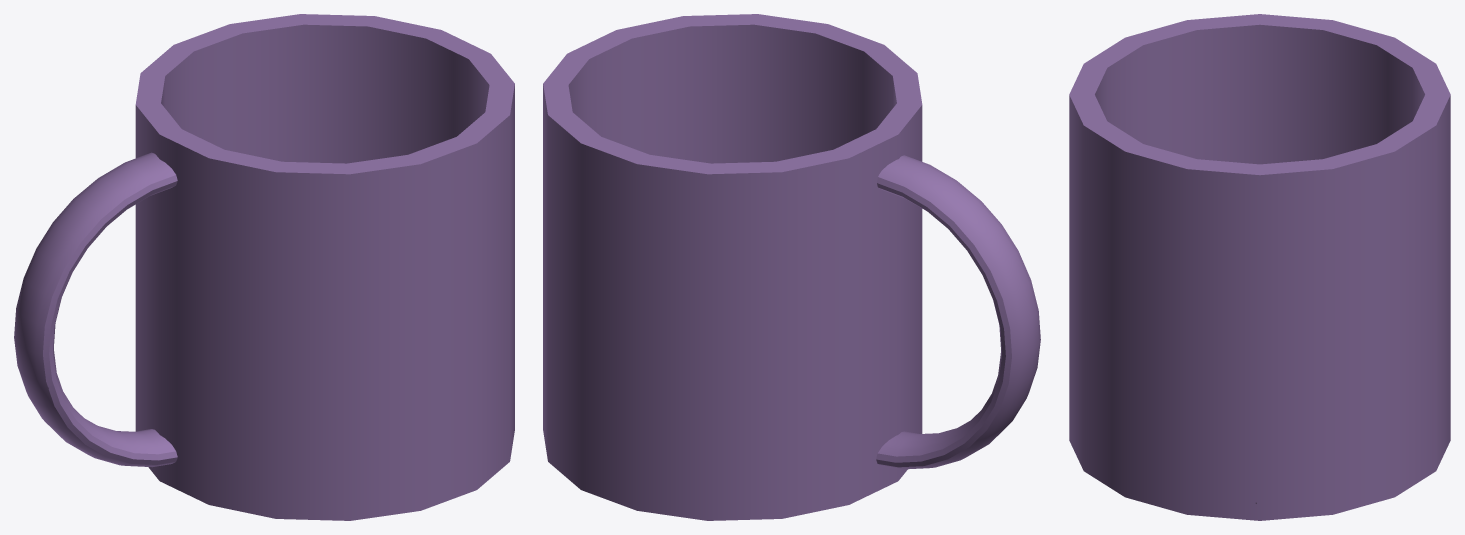
File: TazaMorada.fbx
The picture shows the model from 3 angles, left to right: view 1: azimuth 30°, elevation 25°; view 2: azimuth 150°, elevation 25°; view 3: azimuth 270°, elevation 25°; orthographic projection.
Visible parts, largest first — view 1: taza; view 2: taza; view 3: taza.
Boxes of the visible parts, left/top/right/bottom form: taza: left=14, top=14, right=514, bottom=520; taza: left=543, top=14, right=1040, bottom=520; taza: left=1069, top=14, right=1450, bottom=520.
Size of the model in its own units: 15.38 by 10.88 by 10.88.
